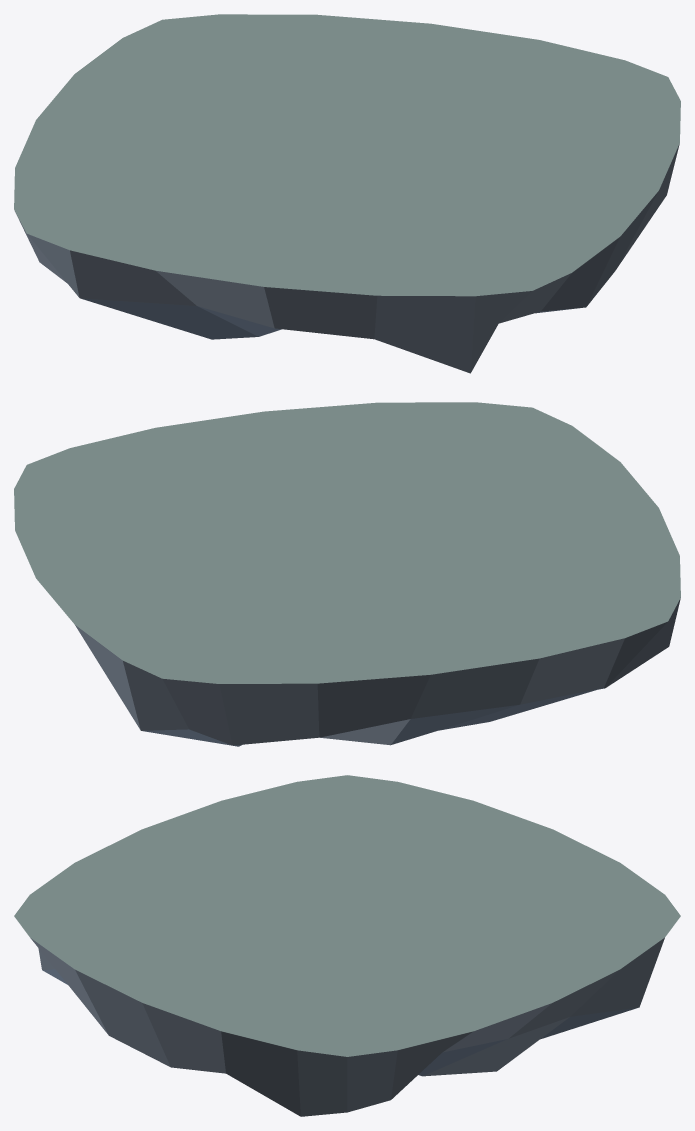
Rendered from Island_Frag_12.glb.
The picture shows the model from 3 angles, top to bottom: view 1: azimuth 30°, elevation 25°; view 2: azimuth 150°, elevation 25°; view 3: azimuth 270°, elevation 25°; orthographic projection. The views are drawn at different scales.
Visible parts, largest first — view 1: Island_Frag_12; view 2: Island_Frag_12; view 3: Island_Frag_12.
Boxes of the visible parts, left/top/right/bottom form: Island_Frag_12: left=14, top=14, right=680, bottom=373; Island_Frag_12: left=14, top=402, right=680, bottom=746; Island_Frag_12: left=14, top=775, right=680, bottom=1116.
Bounding box in the file's own units: 92 × 20 × 92.
